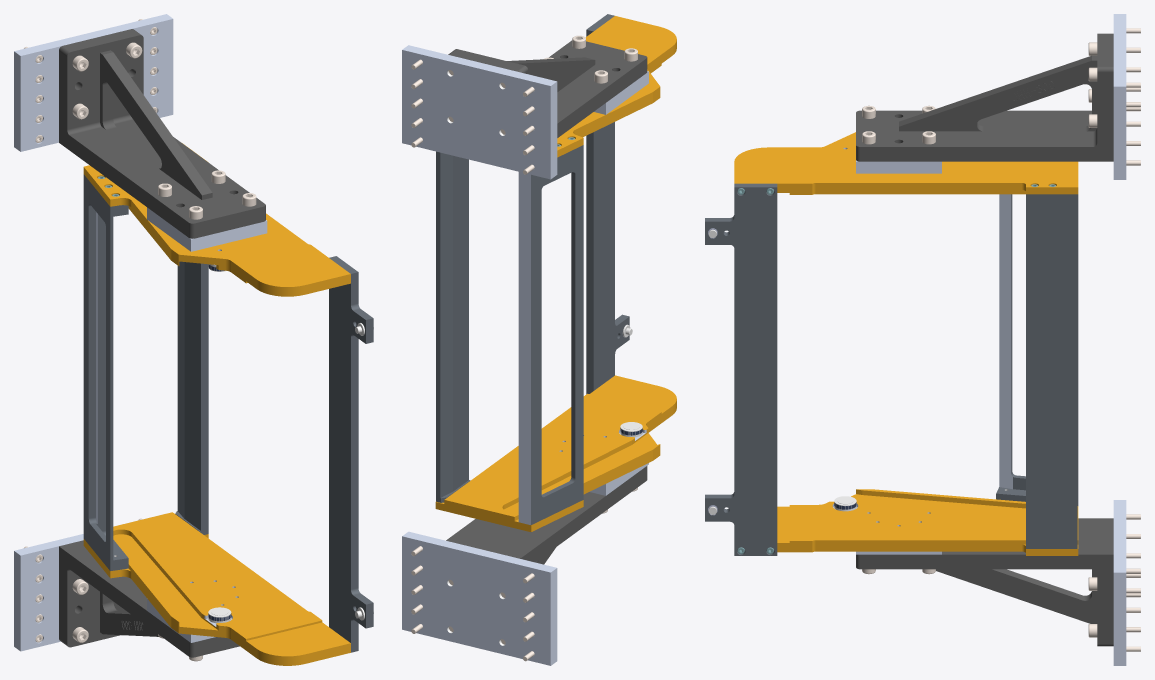
The model's file is slot_pointcloud.glb.
3 renders of one model, left to right at view 1: azimuth 30°, elevation 25°; view 2: azimuth 150°, elevation 25°; view 3: azimuth 270°, elevation 25°, orthographic. The views are drawn at different scales.
Parts seen in each view (by area): view 1: pointcloud; view 2: pointcloud; view 3: pointcloud.
Boxes of the visible parts, <box> form: pointcloud: <box>14,14,373,665</box>; pointcloud: <box>402,14,676,665</box>; pointcloud: <box>705,14,1140,665</box>.
Size of the model in its own units: 0.2 by 0.745 by 0.5077.
